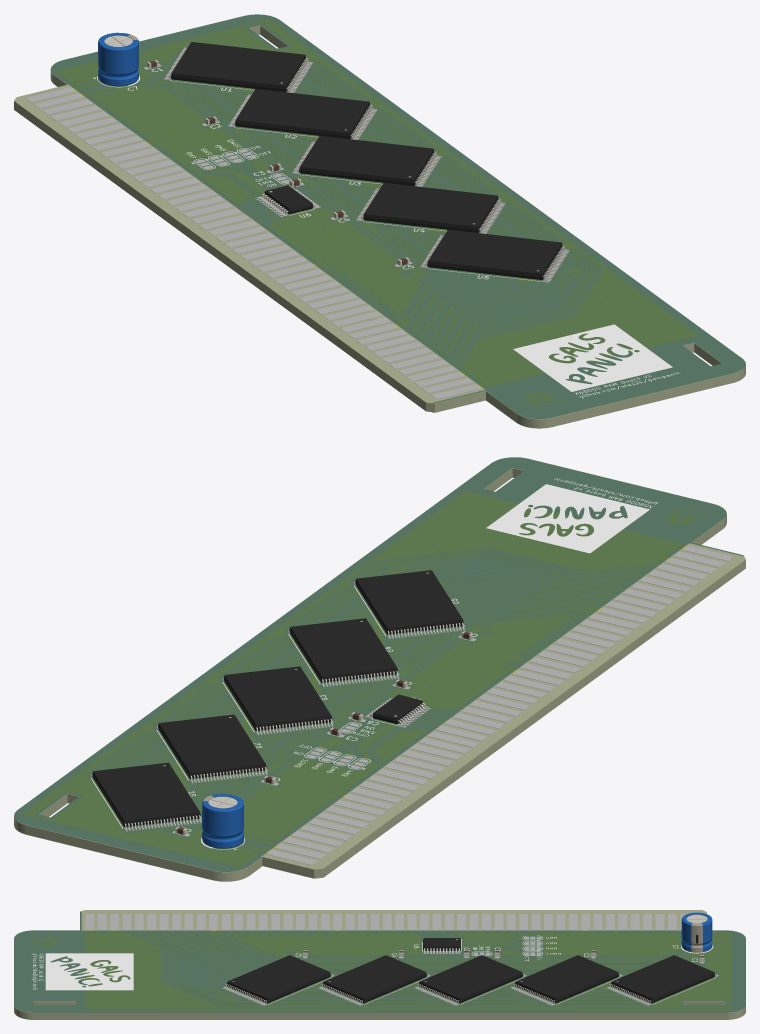
File: board.glb
3 views of the same model, one above another, from view 1: azimuth 30°, elevation 25°; view 2: azimuth 150°, elevation 25°; view 3: azimuth 270°, elevation 25° (orthographic). The views are drawn at different scales.
Visible parts, largest first — view 1: board_soldermask, board_PCB, board_copper, TSOP-I-48_18.4x12mm_P0.5mm (×5), board_pad, board_silkscreen, CP_Radial_D63mm_P250mm, TSSOP-24_4.4x7.8mm_P0.65mm; view 2: board_soldermask, board_PCB, board_copper, TSOP-I-48_18.4x12mm_P0.5mm (×5), board_pad, board_silkscreen, CP_Radial_D63mm_P250mm, TSSOP-24_4.4x7.8mm_P0.65mm; view 3: board_soldermask (×2), board_PCB, board_copper, TSOP-I-48_18.4x12mm_P0.5mm (×5), board_pad, board_silkscreen, CP_Radial_D63mm_P250mm, TSSOP-24_4.4x7.8mm_P0.65mm.
Boxes of the visible parts, x1,y1,x2,y2 form: board_soldermask: [50, 14, 745, 418]; board_PCB: [14, 15, 745, 428]; board_copper: [56, 20, 698, 409]; TSOP-I-48_18.4x12mm_P0.5mm (×5): [164, 42, 569, 281]; board_pad: [25, 48, 569, 399]; board_silkscreen: [93, 67, 680, 398]; CP_Radial_D63mm_P250mm: [98, 32, 138, 86]; TSSOP-24_4.4x7.8mm_P0.65mm: [258, 185, 318, 215]; board_soldermask: [14, 457, 743, 871]; board_PCB: [14, 458, 745, 881]; board_copper: [22, 491, 704, 867]; TSOP-I-48_18.4x12mm_P0.5mm (×5): [91, 570, 464, 830]; board_pad: [91, 545, 733, 865]; board_silkscreen: [91, 478, 658, 850]; CP_Radial_D63mm_P250mm: [202, 793, 243, 848]; TSSOP-24_4.4x7.8mm_P0.65mm: [367, 694, 428, 725]; board_soldermask (×2): [14, 911, 745, 1019]; board_PCB: [14, 910, 745, 1019]; board_copper: [34, 930, 730, 1009]; TSOP-I-48_18.4x12mm_P0.5mm (×5): [223, 955, 718, 1005]; board_pad: [85, 914, 717, 1005]; board_silkscreen: [32, 935, 715, 1004]; CP_Radial_D63mm_P250mm: [681, 912, 712, 952]; TSSOP-24_4.4x7.8mm_P0.65mm: [423, 938, 460, 953].
Bounding box in the file's own units: 0.05 × 0.0083 × 0.15.
